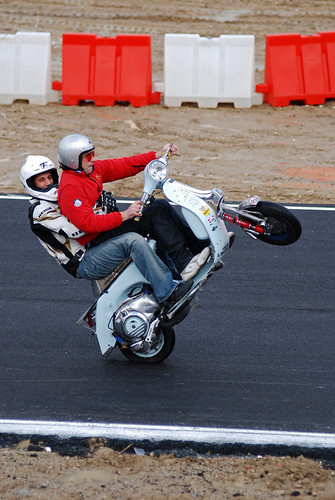helmet: (14, 146, 56, 202), (56, 129, 96, 163)
